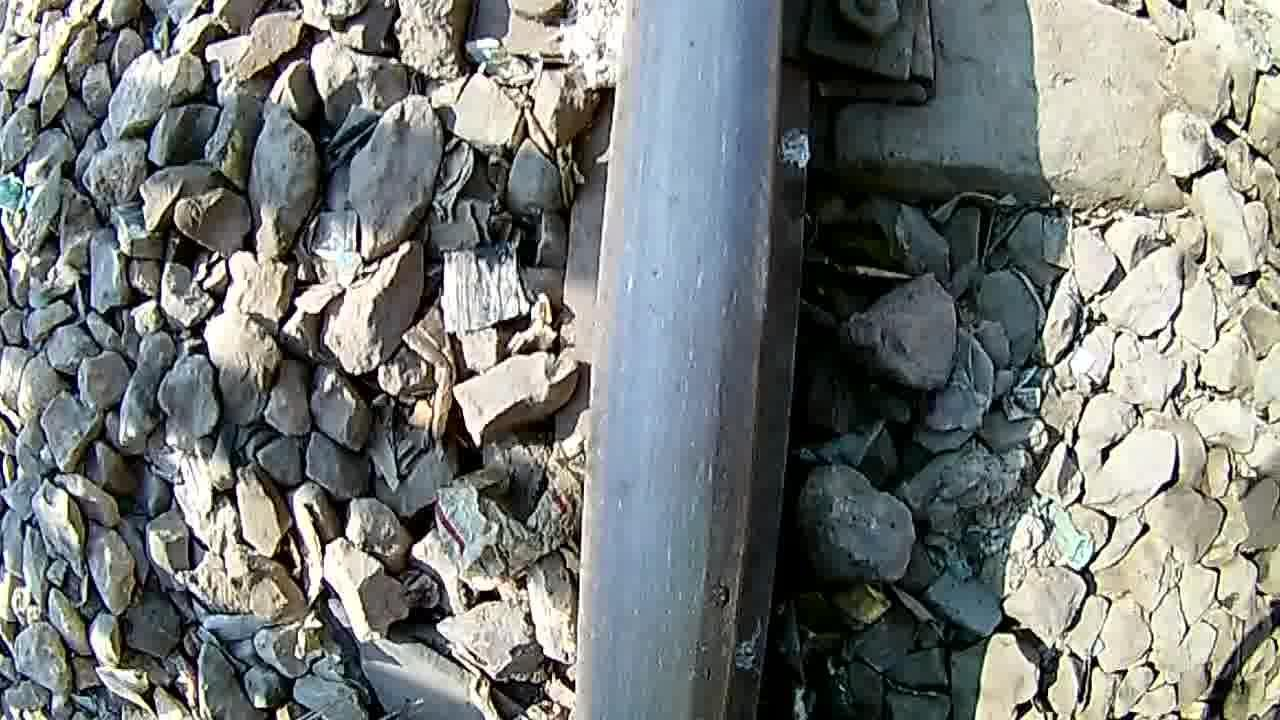crack: (596, 3, 793, 720)
